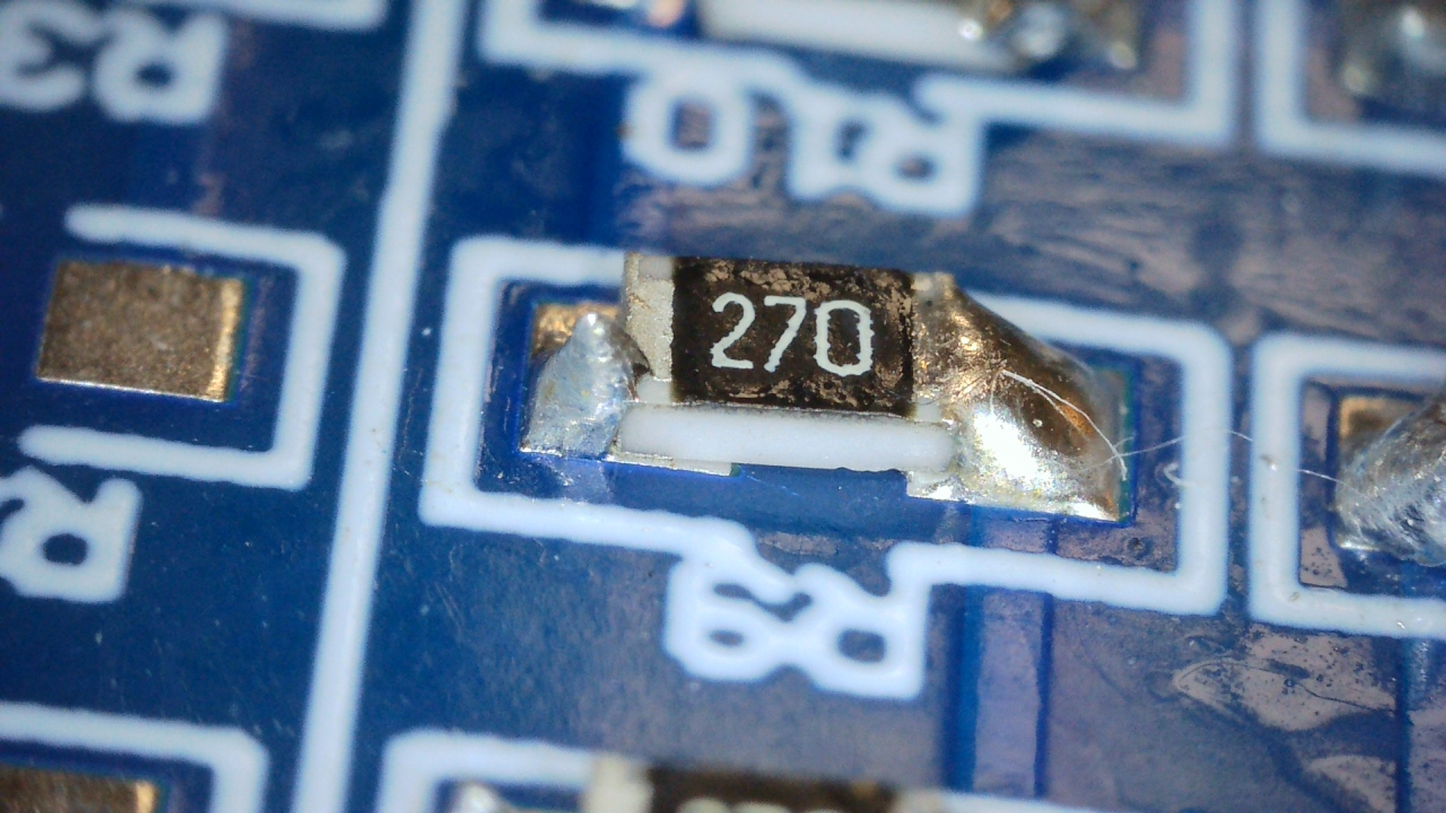NG: (907, 273, 1122, 521), (520, 313, 648, 460)
